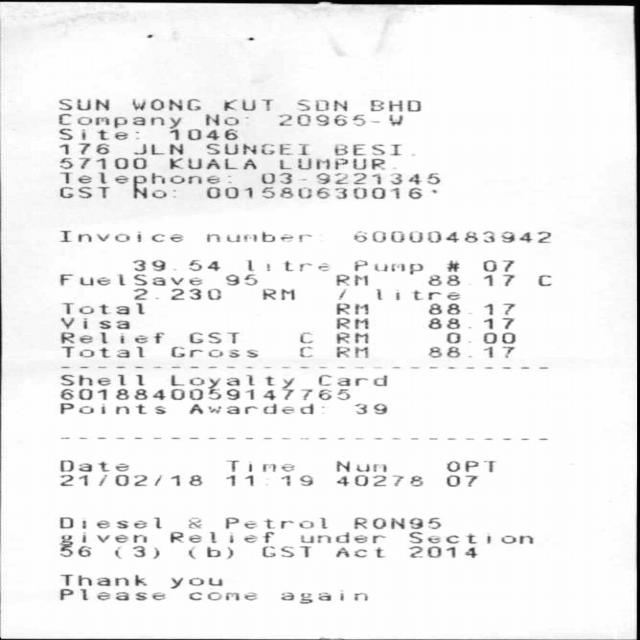text: (59, 388, 348, 400), (206, 186, 435, 199), (352, 231, 549, 242), (259, 172, 438, 184), (59, 534, 144, 557), (59, 113, 179, 129), (61, 172, 218, 184), (58, 273, 200, 286), (169, 374, 292, 388), (58, 474, 200, 486), (406, 531, 531, 544), (60, 230, 180, 242), (189, 403, 311, 414), (279, 114, 400, 125), (168, 530, 272, 542), (59, 588, 163, 600), (205, 142, 307, 154), (58, 402, 164, 413), (279, 158, 383, 169), (206, 231, 309, 242), (60, 332, 162, 343), (59, 517, 159, 528), (225, 517, 325, 528), (167, 157, 255, 169), (426, 345, 514, 357), (352, 259, 422, 274), (133, 288, 220, 300), (426, 317, 512, 329), (226, 474, 312, 486), (352, 517, 438, 529), (58, 127, 137, 140), (59, 157, 144, 169), (427, 302, 512, 314), (60, 574, 145, 586), (376, 288, 458, 300), (62, 302, 143, 314), (168, 346, 255, 357), (334, 475, 420, 486), (281, 592, 366, 603), (59, 346, 142, 357), (59, 374, 142, 385), (300, 532, 383, 543), (408, 545, 475, 558), (446, 331, 518, 343), (132, 260, 218, 270), (245, 260, 327, 270), (132, 98, 200, 110), (317, 374, 385, 386), (168, 128, 235, 140), (61, 317, 128, 329), (332, 143, 398, 155), (225, 460, 292, 471), (60, 460, 126, 471), (368, 99, 419, 111), (187, 591, 255, 600), (58, 98, 108, 110), (296, 99, 345, 111), (59, 142, 108, 154), (59, 186, 108, 198), (444, 460, 492, 472), (260, 545, 308, 557), (112, 546, 158, 558), (170, 577, 220, 588), (186, 546, 231, 558), (223, 99, 271, 110), (188, 332, 236, 343), (336, 461, 384, 472), (131, 144, 181, 154), (333, 547, 382, 557), (203, 114, 246, 125), (425, 274, 458, 286), (481, 274, 513, 286), (261, 288, 293, 300), (334, 302, 366, 314), (334, 317, 366, 329), (482, 260, 512, 272), (334, 274, 366, 285), (334, 332, 366, 343), (334, 346, 366, 357), (225, 274, 256, 285), (354, 403, 385, 414), (445, 475, 475, 486), (152, 189, 174, 198), (536, 274, 550, 286), (297, 346, 310, 357), (297, 332, 310, 342), (446, 260, 457, 271), (78, 546, 89, 557), (187, 519, 199, 528), (483, 303, 491, 315), (482, 317, 490, 329), (338, 290, 343, 298)
